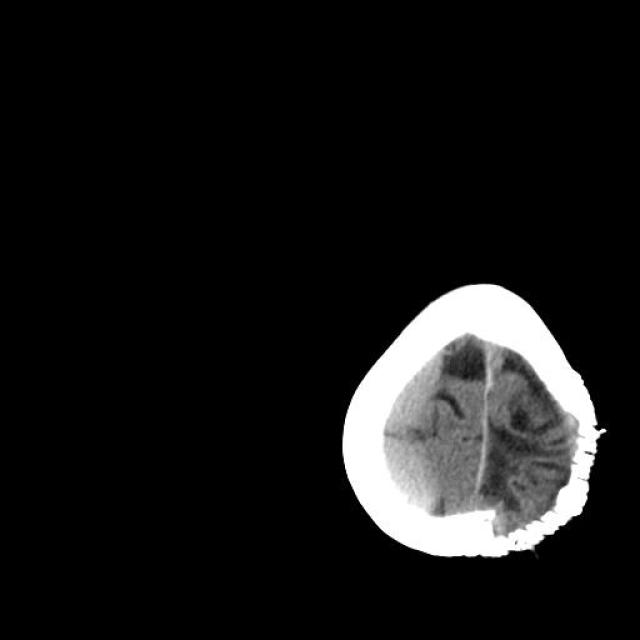Subdural: (358, 351, 478, 515)
